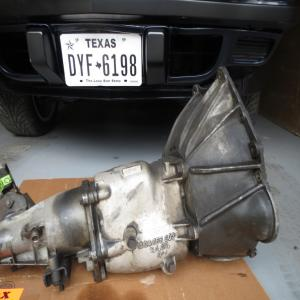Vehicle-registration-plate: (55, 28, 147, 87)
